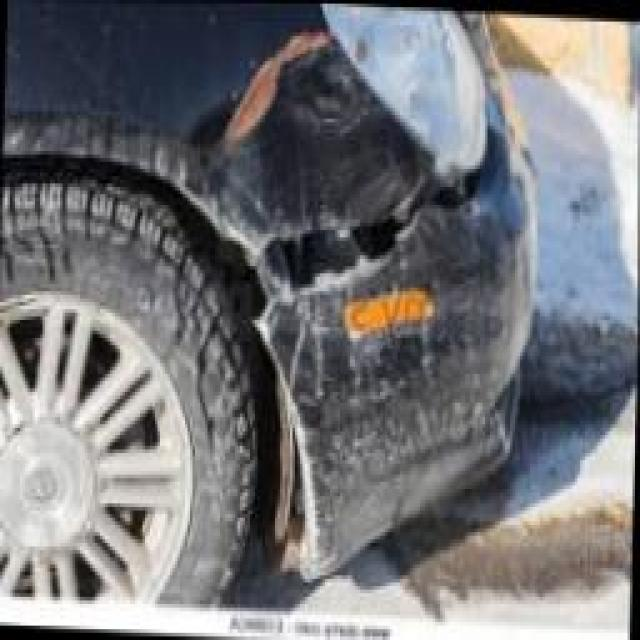replaceable: (230, 43, 489, 552)
